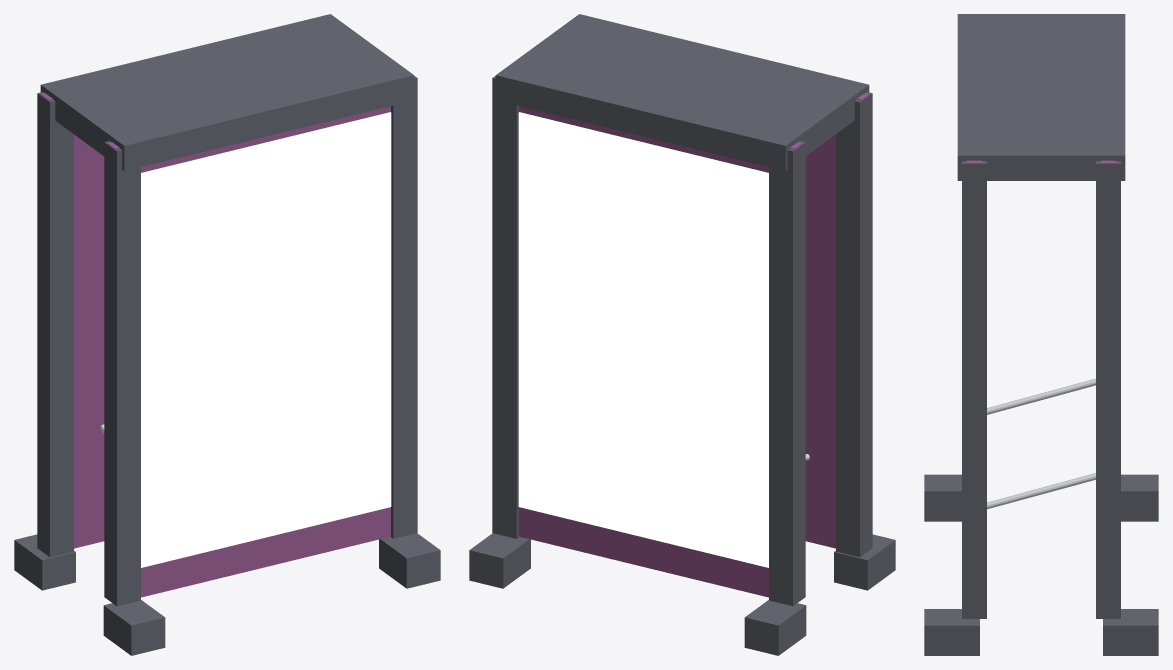
File: pharmacy-and-high-street-chemist-floor-sign-frame-dd7114c4__37500.glb
The picture shows the model from 3 angles, left to right: view 1: azimuth 30°, elevation 25°; view 2: azimuth 150°, elevation 25°; view 3: azimuth 270°, elevation 25°; orthographic projection.
Parts seen in each view (by area): view 1: floor-sign-frame; view 2: floor-sign-frame; view 3: floor-sign-frame.
Part boxes in pixels (x1,y1,x2,y2): floor-sign-frame: (14,14,440,655); floor-sign-frame: (469,14,895,655); floor-sign-frame: (924,14,1158,655).
Size of the model in its own units: 0.64 by 0.98 by 0.4199.
